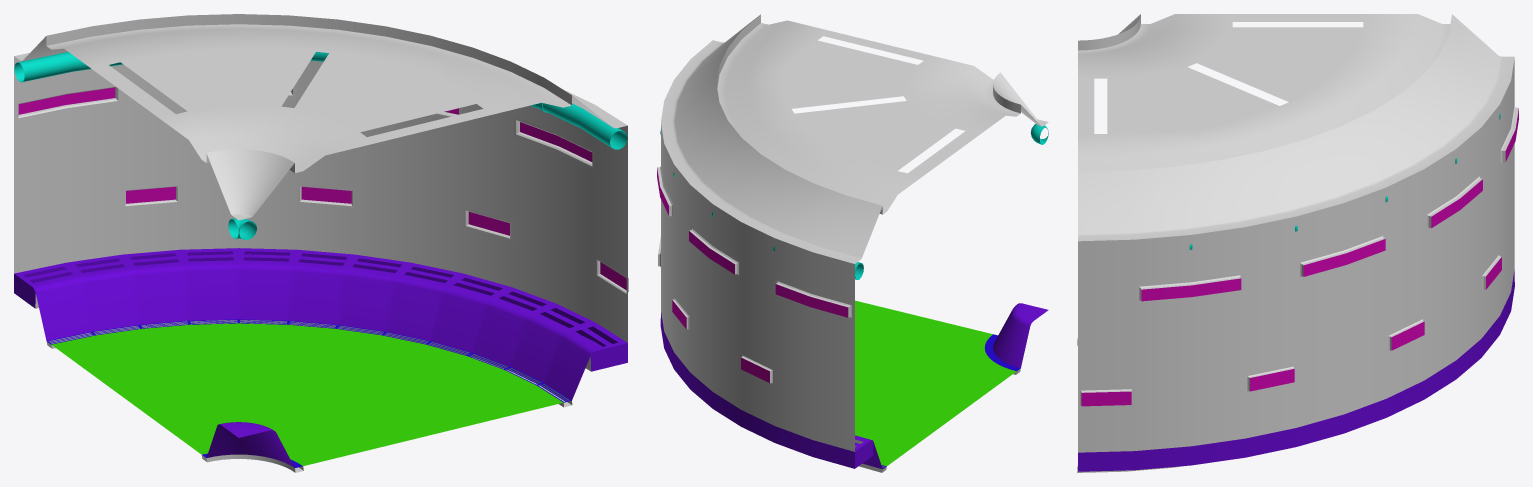
Rendered from corner.fbx.
The picture shows the model from 3 angles, left to right: view 1: azimuth 30°, elevation 25°; view 2: azimuth 150°, elevation 25°; view 3: azimuth 270°, elevation 25°; orthographic projection. The views are drawn at different scales.
Visible parts, largest first — view 1: Corner.001, Tunnel_1.006; view 2: Corner.001; view 3: Corner.001.
Part boxes in pixels (<box>): Corner.001: <box>14,14,628,472</box>; Tunnel_1.006: <box>49,320,572,404</box>; Corner.001: <box>657,14,1048,472</box>; Corner.001: <box>1077,14,1518,471</box>.
Size of the model in its own units: 403 by 304 by 405.
